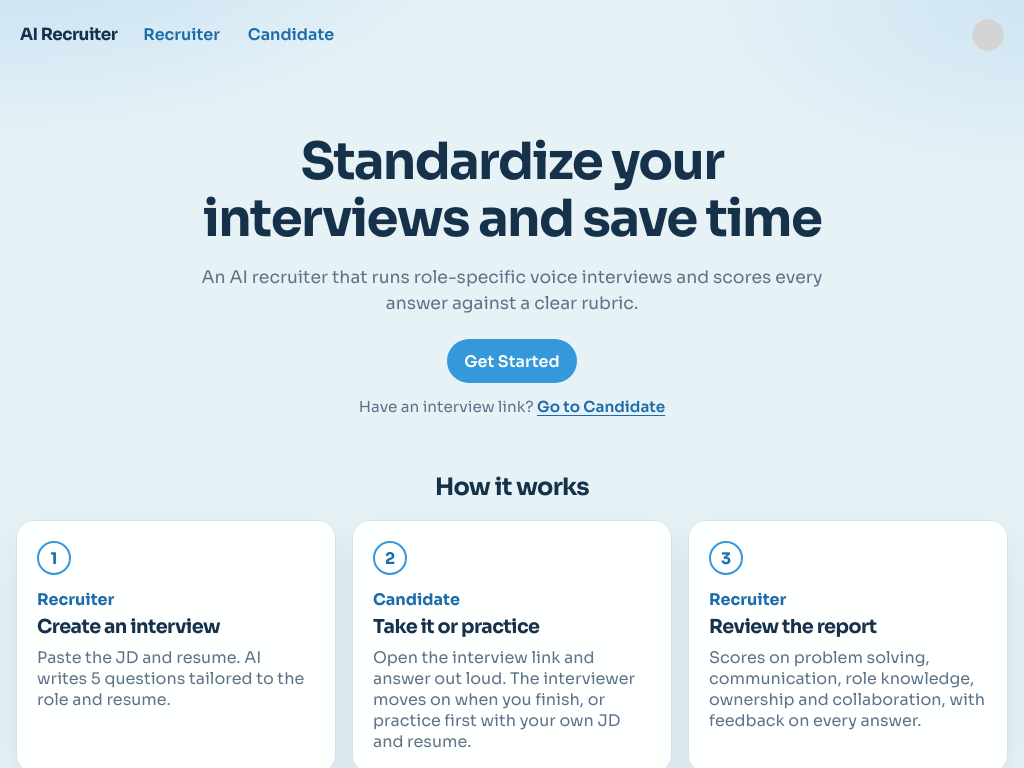
Test: opens on the landing page, then the recruiter and candidate tabs
expect the heading "Standardize your interviews and save time" is shown: met, box [200,133,824,248]
expect the text "scores every answer against a clear rubric" is shown: met, box [201,266,822,314]
Click the link "Get Started".
click(512, 361)  # box [447,339,577,383]
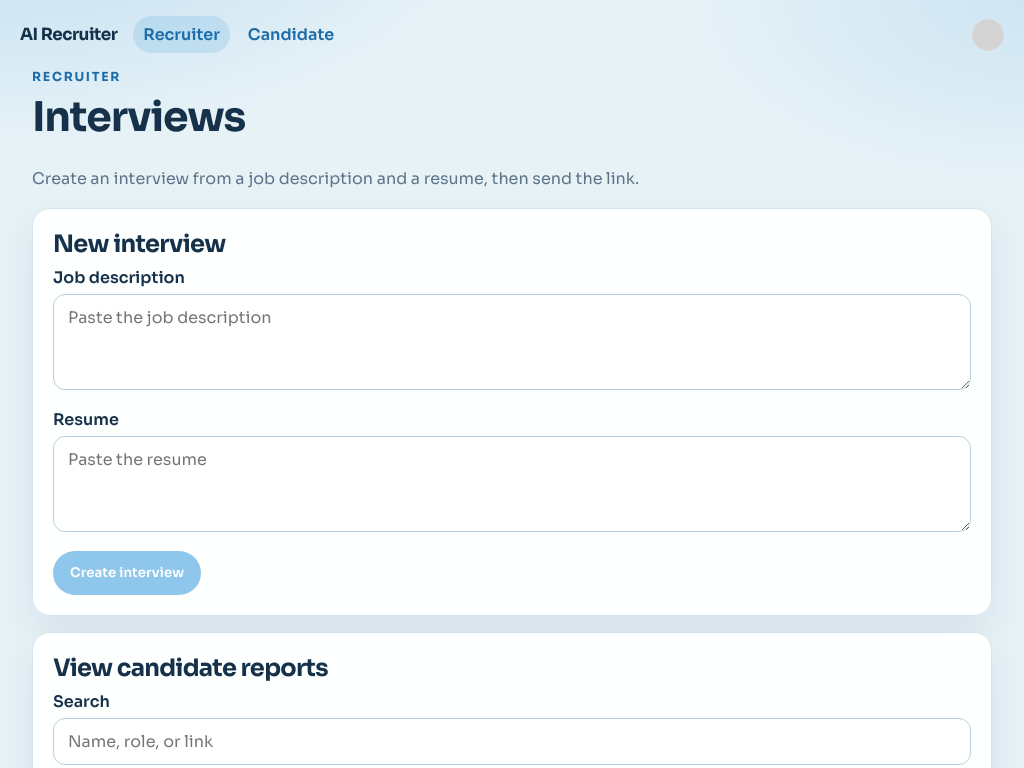
expect the heading "Interviews" is shown: met, box [32,91,245,143]
expect the button "Create interview" is disabled: met, box [53,551,201,595]
Type "Build APIs" into the text box labelled "Job description".
click(512, 342); type("Build APIs")  # box [53,294,971,390]
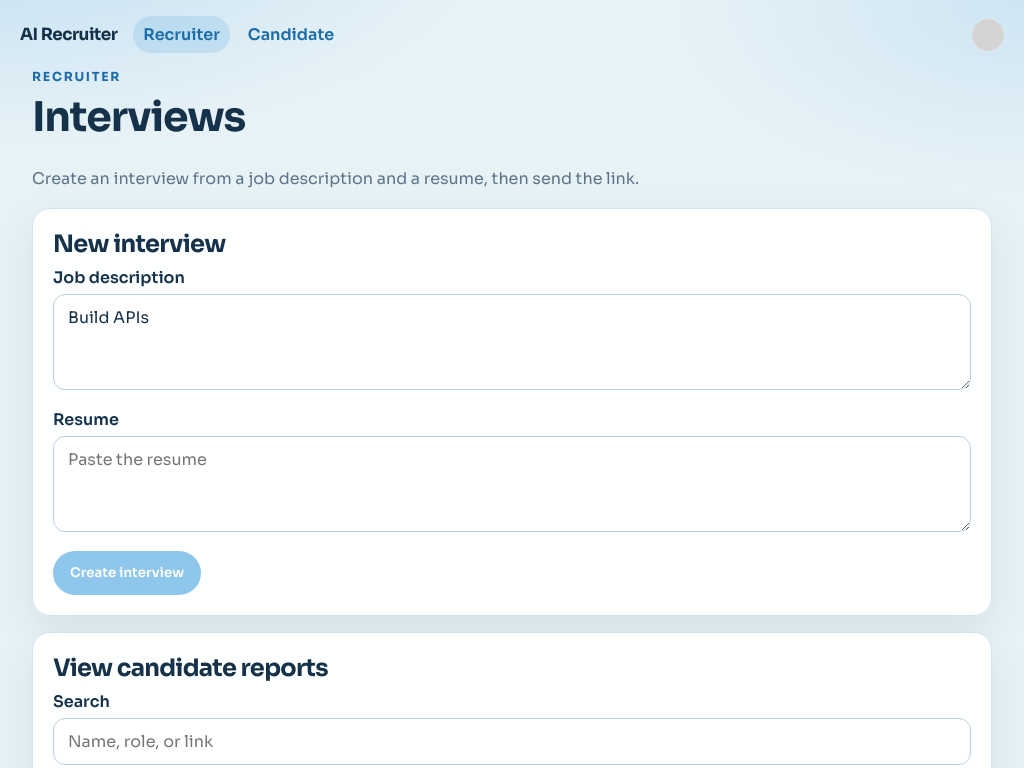
expect the button "Create interview" is disabled: met, box [53,551,201,595]
Type "Jane Doe" into the text box labelled "Resume".
click(512, 484); type("Jane Doe")  # box [53,436,971,532]
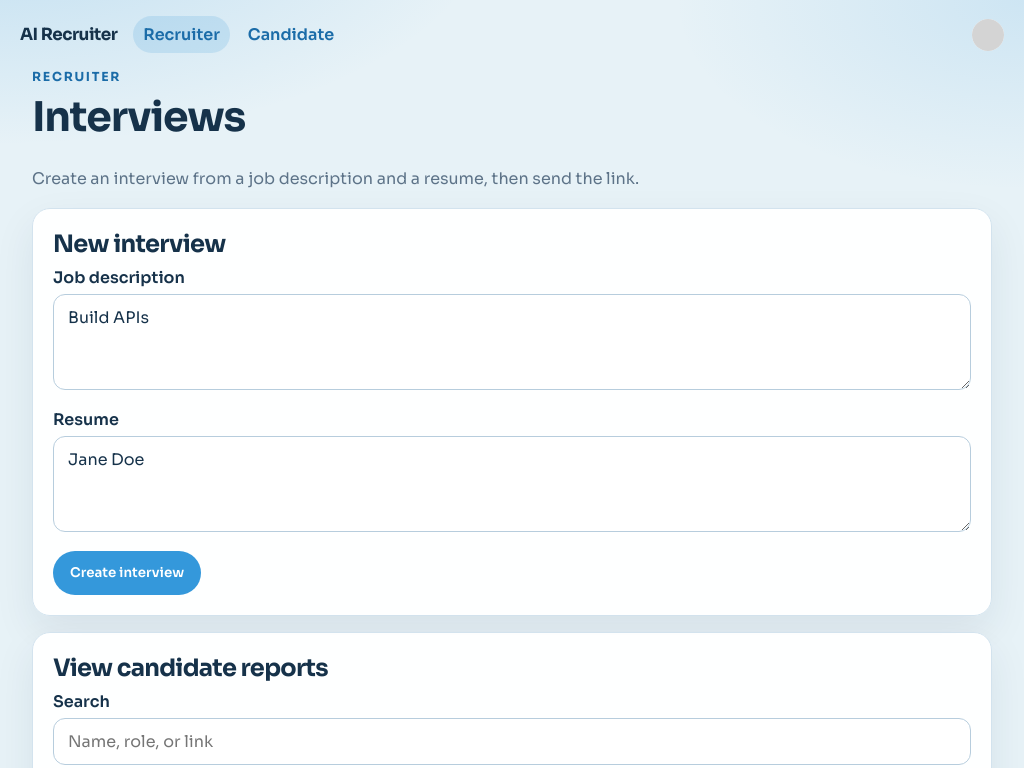
expect the button "Create interview" is enabled: met, box [53,551,201,595]
Click the link "AI Recruiter".
click(69, 34)  # box [20,24,117,45]
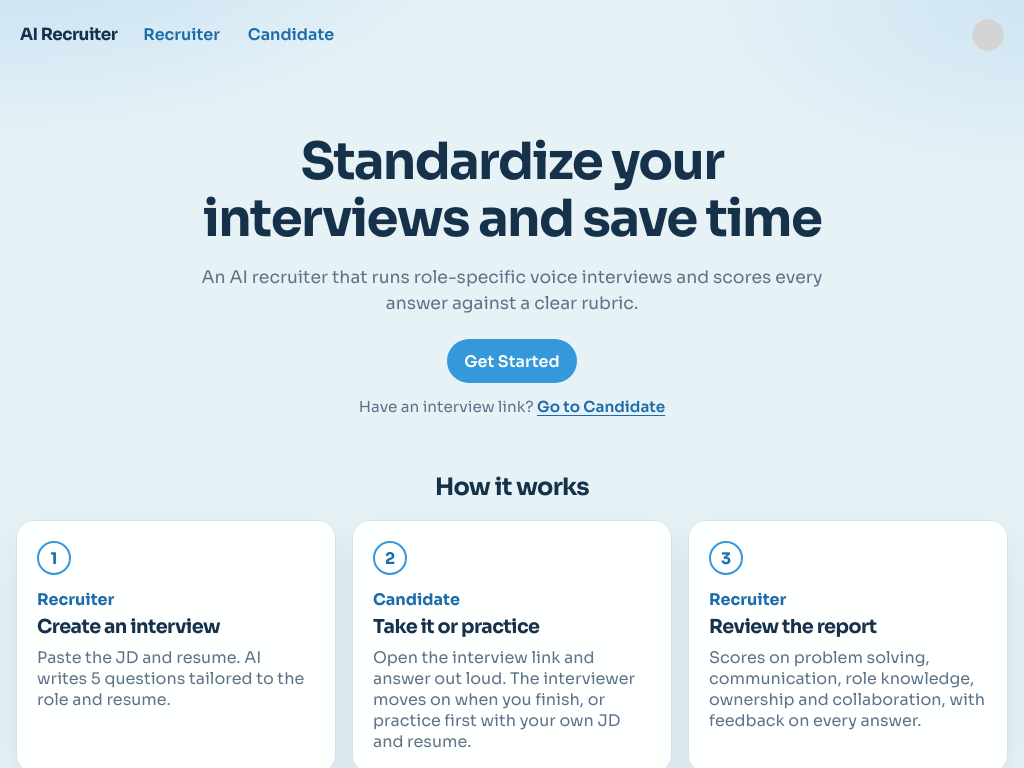
expect the heading "Standardize your interviews and save time" is shown: met, box [200,133,824,248]
Click the link "Go to Candidate".
click(601, 407)  # box [537,397,665,416]
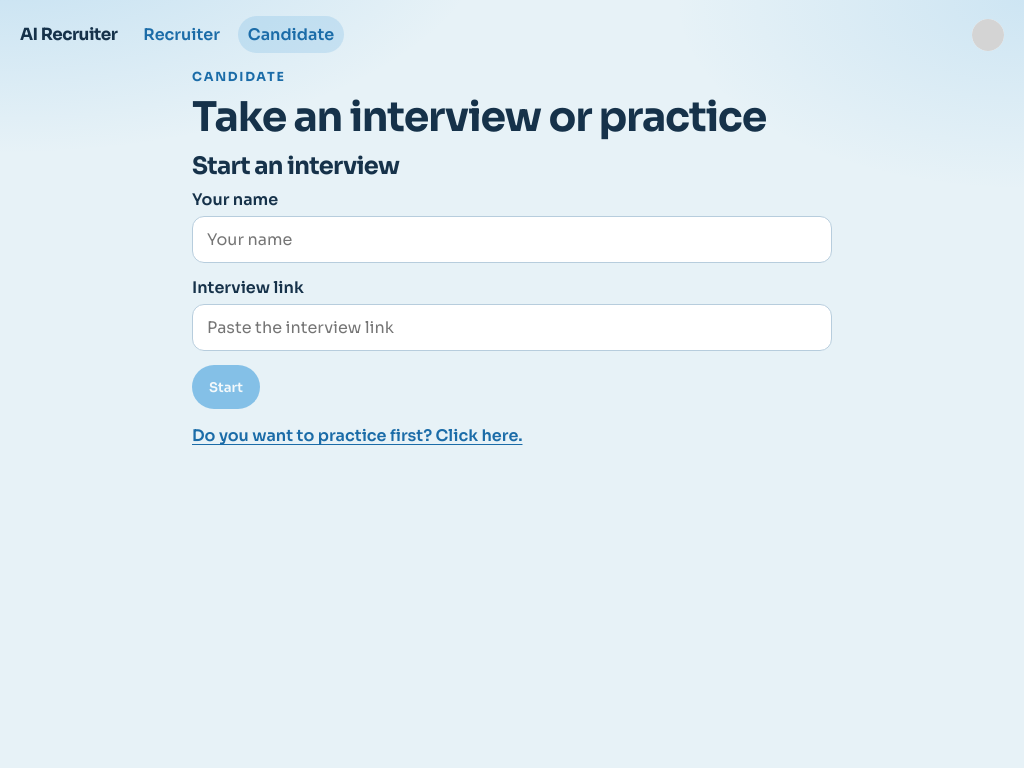
expect the heading "Take an interview or practice" is shown: met, box [192,91,832,143]
